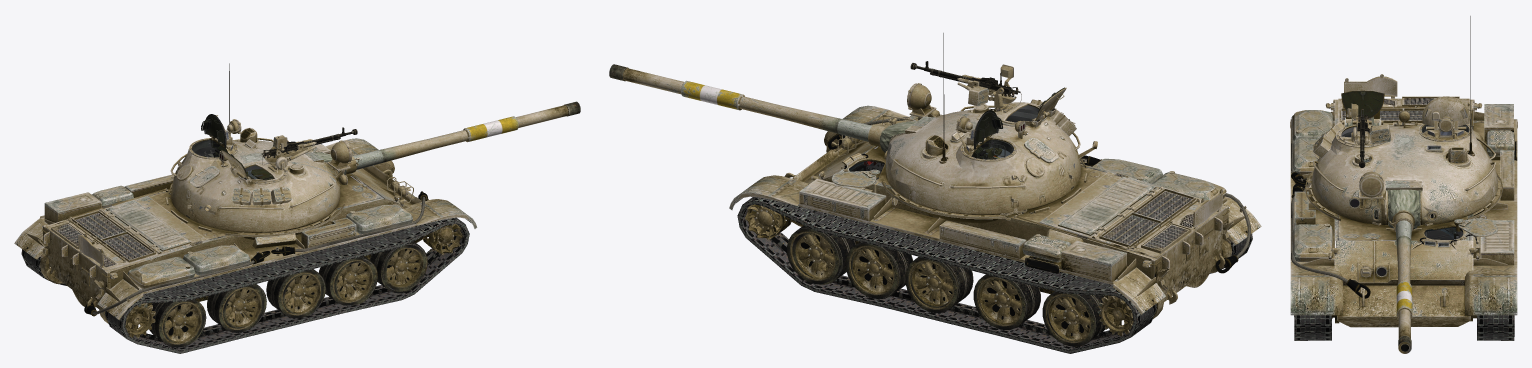
File: t-62a_main_battle_tank.glb
3 renders of one model, left to right at view 1: azimuth 30°, elevation 25°; view 2: azimuth 150°, elevation 25°; view 3: azimuth 270°, elevation 25°, orthographic. The views are drawn at different scales.
Parts seen in each view (by area): view 1: Object_17, Object_23, Object_15, Object_14, Object_4, Object_8, Object_6, Object_10, Object_11, Object_25; view 2: Object_17, Object_23, Object_15, Object_14, Object_10, Object_11, Object_7, Object_5, Object_9, Object_13, Object_16, Object_25; view 3: Object_17, Object_15, Object_14, Object_23, Object_16, Object_21.
Part boxes in pixels (x1=…): Object_17: x1=14, y1=119, x2=477, y2=347; Object_23: x1=21, y1=217, x2=469, y2=353; Object_15: x1=168, y1=63, x2=357, y2=232; Object_14: x1=314, y1=101, x2=580, y2=174; Object_4: x1=149, y1=299, x2=204, y2=347; Object_8: x1=266, y1=270, x2=323, y2=318; Object_6: x1=207, y1=285, x2=264, y2=332; Object_10: x1=318, y1=257, x2=373, y2=305; Object_11: x1=370, y1=248, x2=422, y2=293; Object_25: x1=201, y1=114, x2=226, y2=148; Object_17: x1=729, y1=61, x2=1261, y2=346; Object_23: x1=737, y1=197, x2=1252, y2=353; Object_15: x1=884, y1=33, x2=1097, y2=214; Object_14: x1=609, y1=64, x2=936, y2=152; Object_10: x1=845, y1=242, x2=898, y2=298; Object_11: x1=787, y1=225, x2=839, y2=284; Object_7: x1=973, y1=274, x2=1025, y2=329; Object_5: x1=1042, y1=291, x2=1094, y2=346; Object_9: x1=905, y1=257, x2=957, y2=312; Object_13: x1=744, y1=204, x2=790, y2=239; Object_16: x1=832, y1=113, x2=988, y2=187; Object_25: x1=973, y1=110, x2=1002, y2=149; Object_17: x1=1290, y1=74, x2=1517, y2=327; Object_15: x1=1311, y1=16, x2=1497, y2=225; Object_14: x1=1359, y1=171, x2=1419, y2=353; Object_23: x1=1294, y1=315, x2=1514, y2=340; Object_16: x1=1422, y1=96, x2=1497, y2=236; Object_21: x1=1341, y1=91, x2=1471, y2=239.
Size of the model in its own units: 10.4 by 4.8 by 3.62.
Materials: 5 (4 with a texture image).
